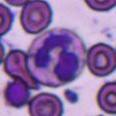N: (31, 27, 84, 85)
